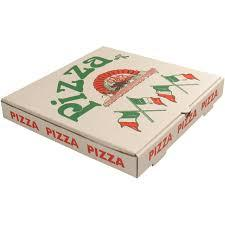Cardboard: (3, 16, 225, 189)
